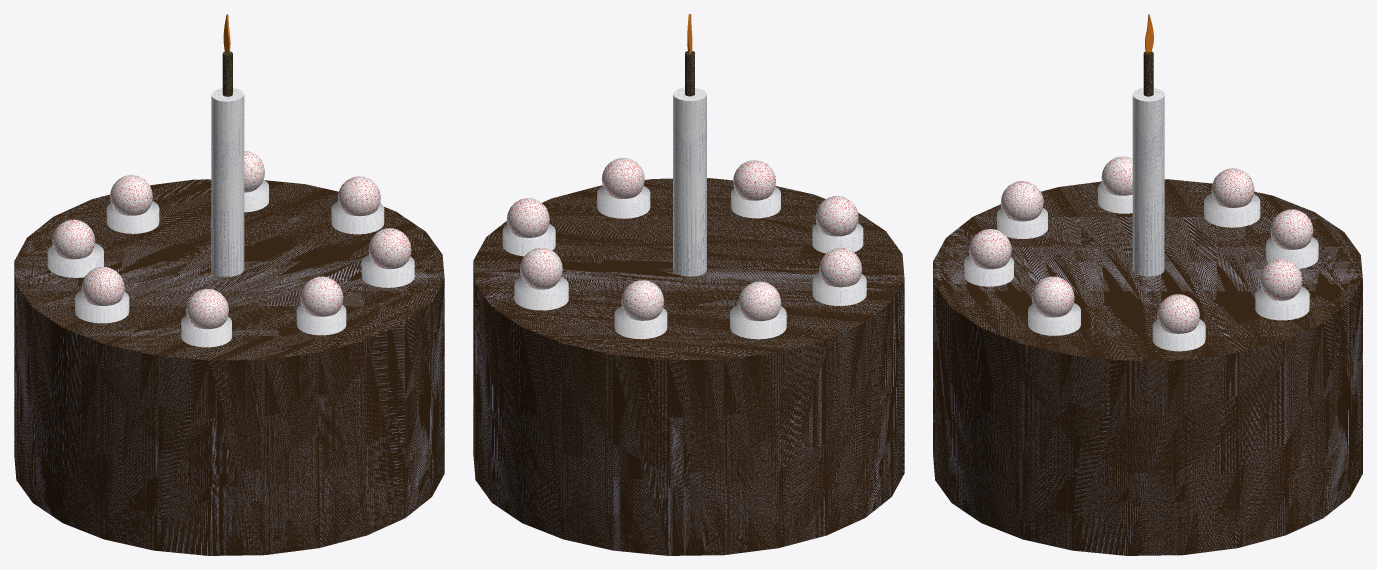
File: portal_cake.dae
3 views of the same model, side by side, from view 1: azimuth 30°, elevation 25°; view 2: azimuth 150°, elevation 25°; view 3: azimuth 270°, elevation 25° (orthographic).
Parts seen in each view (by area): view 1: CAKE_, ske20 (×8), Component_11, Component_2, Component_1, Component_6, Component_8, Component_5, Component_4, Component_3, Component_7; view 2: CAKE_, ske20 (×8), Component_11, Component_7, Component_1, Component_2, Component_5, Component_6, Component_3, Component_8, Component_4; view 3: CAKE_, ske20 (×8), Component_11, Component_1, Component_7, Component_2, Component_8, Component_4, Component_3, Component_6, Component_5.
Boxes of the visible parts, left/top/right/bottom form: CAKE_: left=14, top=179, right=444, bottom=555; ske20 (×8): left=52, top=151, right=411, bottom=329; Component_11: left=211, top=88, right=244, bottom=276; Component_2: left=361, top=254, right=414, bottom=287; Component_1: left=47, top=243, right=103, bottom=277; Component_6: left=106, top=201, right=159, bottom=233; Component_8: left=331, top=201, right=384, bottom=234; Component_5: left=75, top=290, right=129, bottom=323; Component_4: left=181, top=315, right=231, bottom=347; Component_3: left=296, top=304, right=346, bottom=335; Component_7: left=244, top=179, right=268, bottom=212; CAKE_: left=473, top=178, right=904, bottom=555; ske20 (×8): left=506, top=158, right=862, bottom=321; Component_11: left=673, top=87, right=706, bottom=276; Component_7: left=514, top=277, right=568, bottom=310; Component_1: left=730, top=304, right=786, bottom=339; Component_2: left=597, top=186, right=650, bottom=218; Component_5: left=812, top=273, right=866, bottom=305; Component_6: left=614, top=306, right=667, bottom=339; Component_3: left=731, top=187, right=780, bottom=218; Component_8: left=502, top=224, right=555, bottom=256; Component_4: left=812, top=223, right=863, bottom=253; CAKE_: left=933, top=179, right=1362, bottom=555; ske20 (×8): left=969, top=156, right=1313, bottom=333; Component_11: left=1132, top=87, right=1164, bottom=276; Component_1: left=1204, top=193, right=1260, bottom=227; Component_7: left=1255, top=286, right=1309, bottom=320; Component_2: left=1028, top=303, right=1080, bottom=335; Component_8: left=1152, top=319, right=1205, bottom=351; Component_4: left=997, top=208, right=1047, bottom=238; Component_3: left=964, top=255, right=1013, bottom=286; Component_6: left=1266, top=237, right=1318, bottom=268; Component_5: left=1098, top=182, right=1132, bottom=213.
Bounding box in the file's own units: 788 × 788 × 910.
